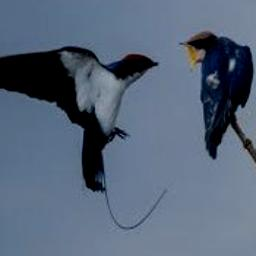Swallow: (0, 45, 159, 191), (180, 30, 253, 158)
